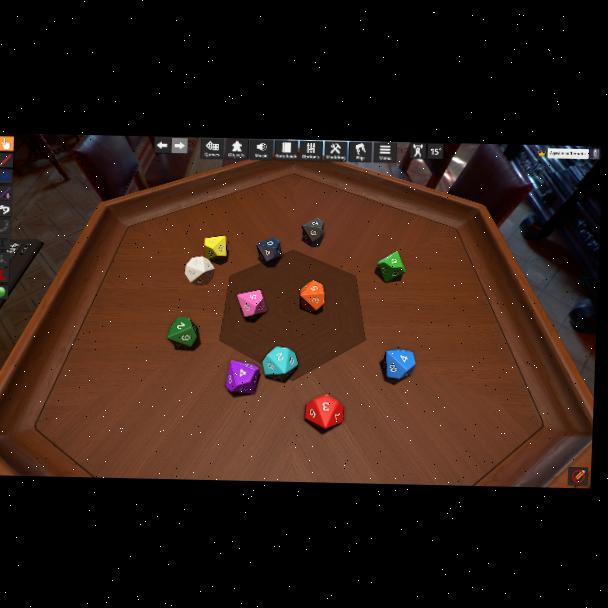d10: (304, 395, 344, 430), (261, 346, 297, 381), (225, 360, 260, 395), (167, 316, 198, 350), (383, 347, 413, 379), (236, 289, 268, 319), (184, 255, 214, 286), (376, 251, 405, 283), (298, 281, 324, 313), (255, 237, 282, 265), (302, 219, 324, 245), (204, 235, 226, 261)
